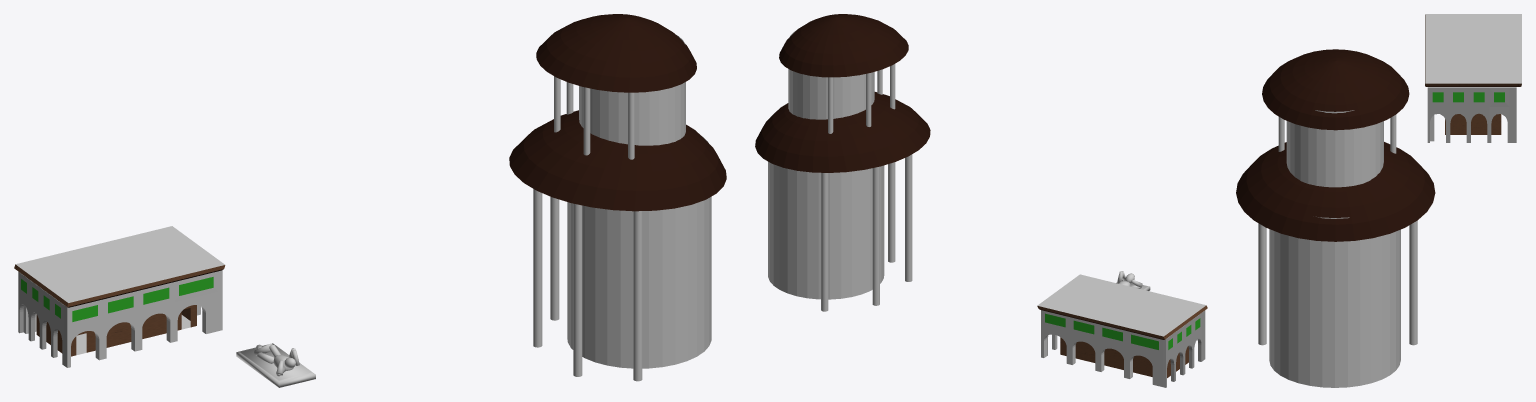
The model's file is plaza2.obj.
The picture shows the model from 3 angles, left to right: view 1: azimuth 30°, elevation 25°; view 2: azimuth 150°, elevation 25°; view 3: azimuth 270°, elevation 25°; orthographic projection. The views are drawn at different scales.
Visible parts, largest first — view 1: ConstructionBase.007_Cylinder, BuildingRoof.007_Cube.003, Arco.007_Cube.006, Building.007_Cube, Statue.007_Cube.004; view 2: ConstructionBase.007_Cylinder, BuildingRoof.007_Cube.003, Arco.007_Cube.006, Building.007_Cube; view 3: ConstructionBase.007_Cylinder, BuildingRoof.007_Cube.003, Arco.007_Cube.006, Building.007_Cube.
Boxes of the visible parts, left/top/right/bottom form: ConstructionBase.007_Cylinder: left=509, top=14, right=726, bottom=381; BuildingRoof.007_Cube.003: left=14, top=226, right=225, bottom=307; Arco.007_Cube.006: left=18, top=270, right=222, bottom=367; Building.007_Cube: left=36, top=305, right=196, bottom=356; Statue.007_Cube.004: left=236, top=343, right=315, bottom=387; ConstructionBase.007_Cylinder: left=755, top=14, right=930, bottom=311; BuildingRoof.007_Cube.003: left=1037, top=274, right=1207, bottom=339; Arco.007_Cube.006: left=1041, top=310, right=1205, bottom=387; Building.007_Cube: left=1060, top=337, right=1188, bottom=377; ConstructionBase.007_Cylinder: left=1236, top=49, right=1435, bottom=387; BuildingRoof.007_Cube.003: left=1425, top=14, right=1521, bottom=86; Arco.007_Cube.006: left=1427, top=87, right=1516, bottom=142; Building.007_Cube: left=1445, top=113, right=1501, bottom=134.
Size of the model in its own units: 61.4 by 31.97 by 28.05.
